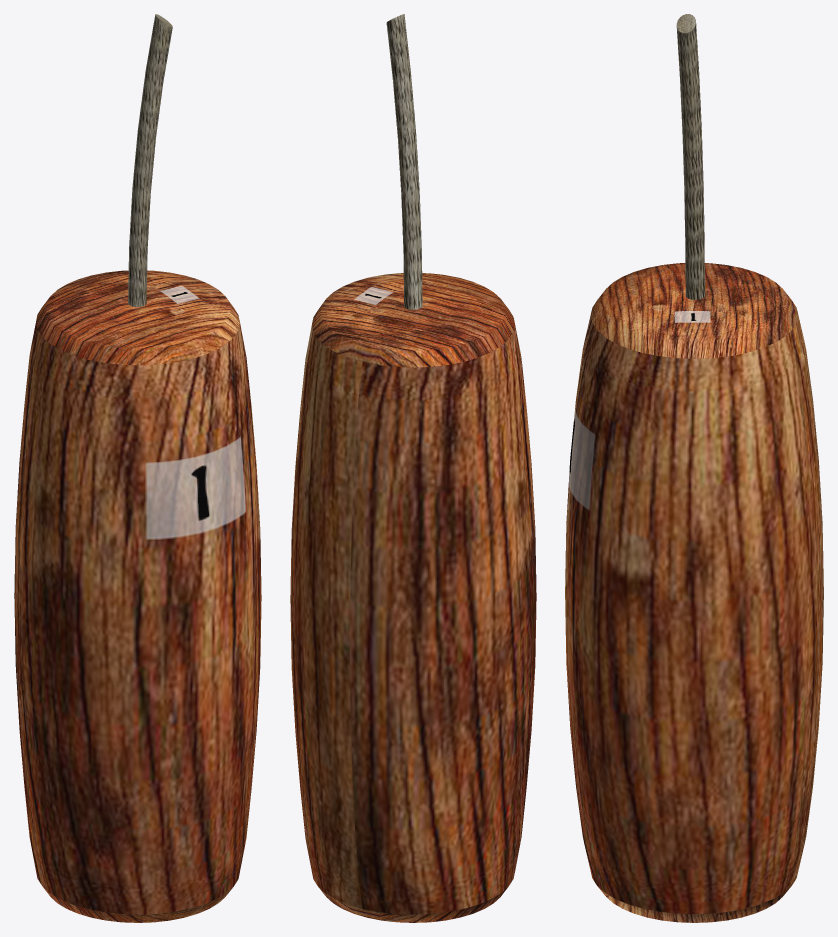
File: punching bag wood1.FBX
3 views of the same model, side by side, from view 1: azimuth 30°, elevation 25°; view 2: azimuth 150°, elevation 25°; view 3: azimuth 270°, elevation 25° (orthographic).
Visible parts, largest first — view 1: Cylinder001, Cylinder002; view 2: Cylinder001, Cylinder002; view 3: Cylinder001, Cylinder002.
Part boxes in pixels (bbox=[...]): Cylinder001: bbox=[14, 270, 261, 922]; Cylinder002: bbox=[128, 14, 172, 306]; Cylinder001: bbox=[290, 273, 536, 922]; Cylinder002: bbox=[386, 14, 422, 309]; Cylinder001: bbox=[565, 263, 823, 922]; Cylinder002: bbox=[676, 14, 704, 299].
Bounding box in the file's own units: 54.37 × 216 × 56.99.
